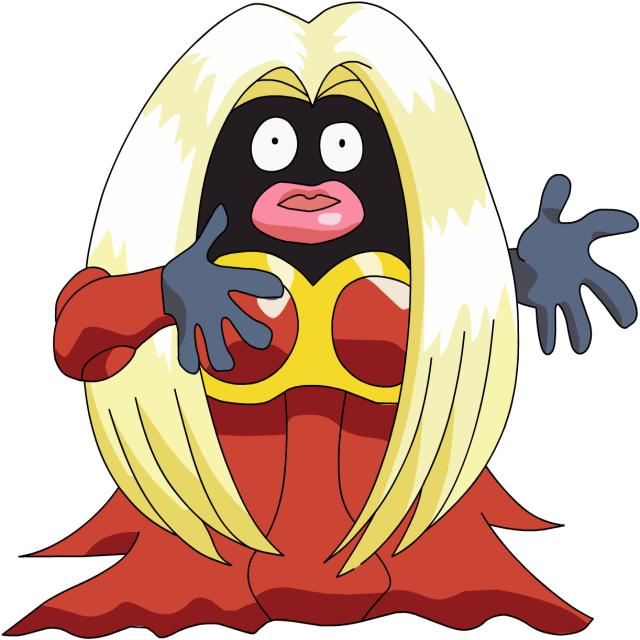Jynx: (82, 0, 554, 640)
